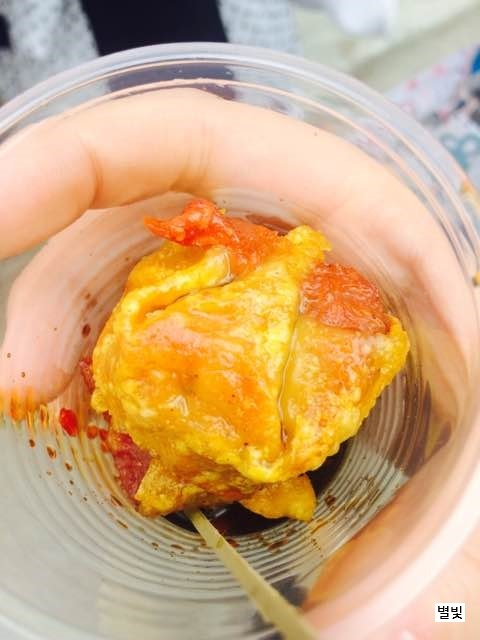fried egg: (101, 200, 395, 527)
